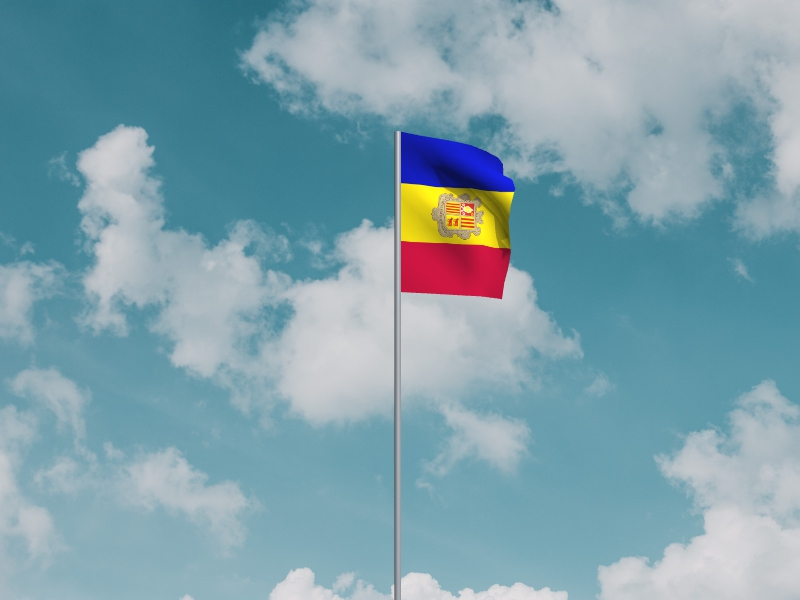ad: (400, 129, 519, 304)
